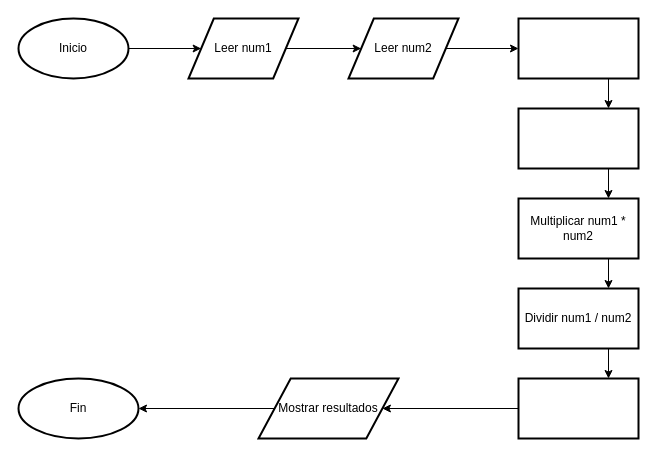
This 656x456 diagram has some shape labels left out. The box of each missing label's shape, as (x1, y1, x2, y2) in pixels:
Obtener modulo num1 % num2: (517, 377, 639, 439)
Restar num1 - num2: (517, 107, 639, 169)
Sumar num1 + num2: (517, 17, 639, 79)
